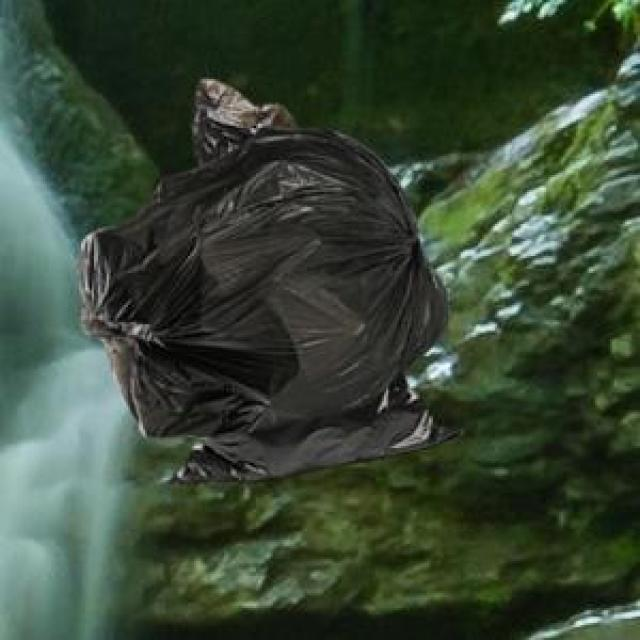Vinyl: (130, 86, 450, 462), (74, 136, 444, 419)
